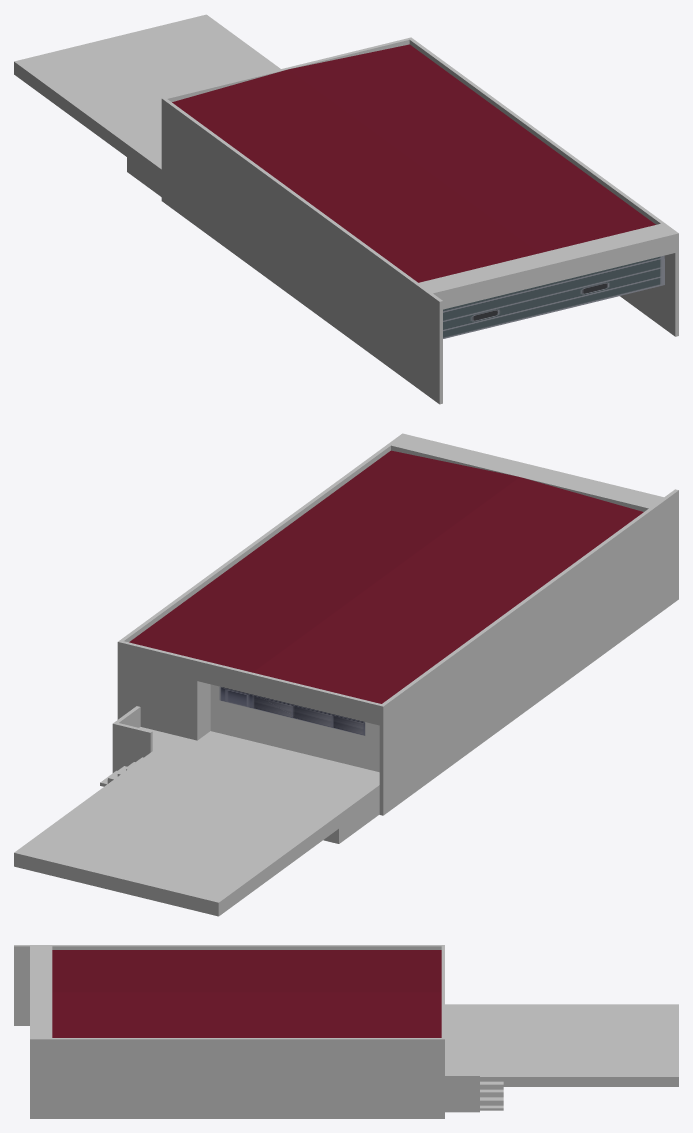
The model's file is Hangar_LOD01.gltf.
3 views of the same model, one above another, from view 1: azimuth 30°, elevation 25°; view 2: azimuth 150°, elevation 25°; view 3: azimuth 270°, elevation 25° (orthographic). The views are drawn at different scales.
Parts seen in each view (by area): view 1: walls.001, roof.001, sectional_door.001; view 2: walls.001, roof.001, office_windows.001; view 3: walls.001, roof.001.
Part boxes in pixels (x1=…): walls.001: x1=14, y1=14, x2=678, y2=404; roof.001: x1=172, y1=44, x2=655, y2=282; sectional_door.001: x1=443, y1=255, x2=664, y2=338; walls.001: x1=14, y1=433, x2=678, y2=916; roof.001: x1=129, y1=450, x2=643, y2=703; office_windows.001: x1=210, y1=684, x2=379, y2=772; walls.001: x1=14, y1=945, x2=678, y2=1118; roof.001: x1=52, y1=950, x2=441, y2=1037.
Bounding box in the file's own units: 14 × 5.5 × 41.67.
